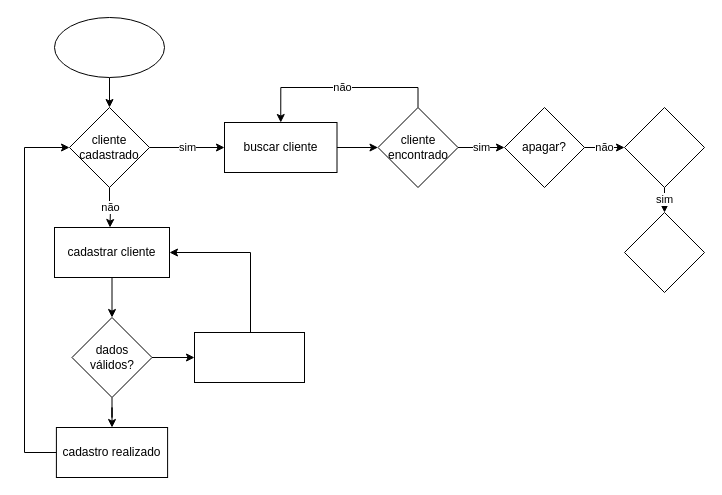
This 722x495 diagram has some shape labels left out. The centre of each missing label's shape, as x and y in pixels:
atualizar?: [664,147]
Início: [109,47]
mostrar erro: [249,357]
